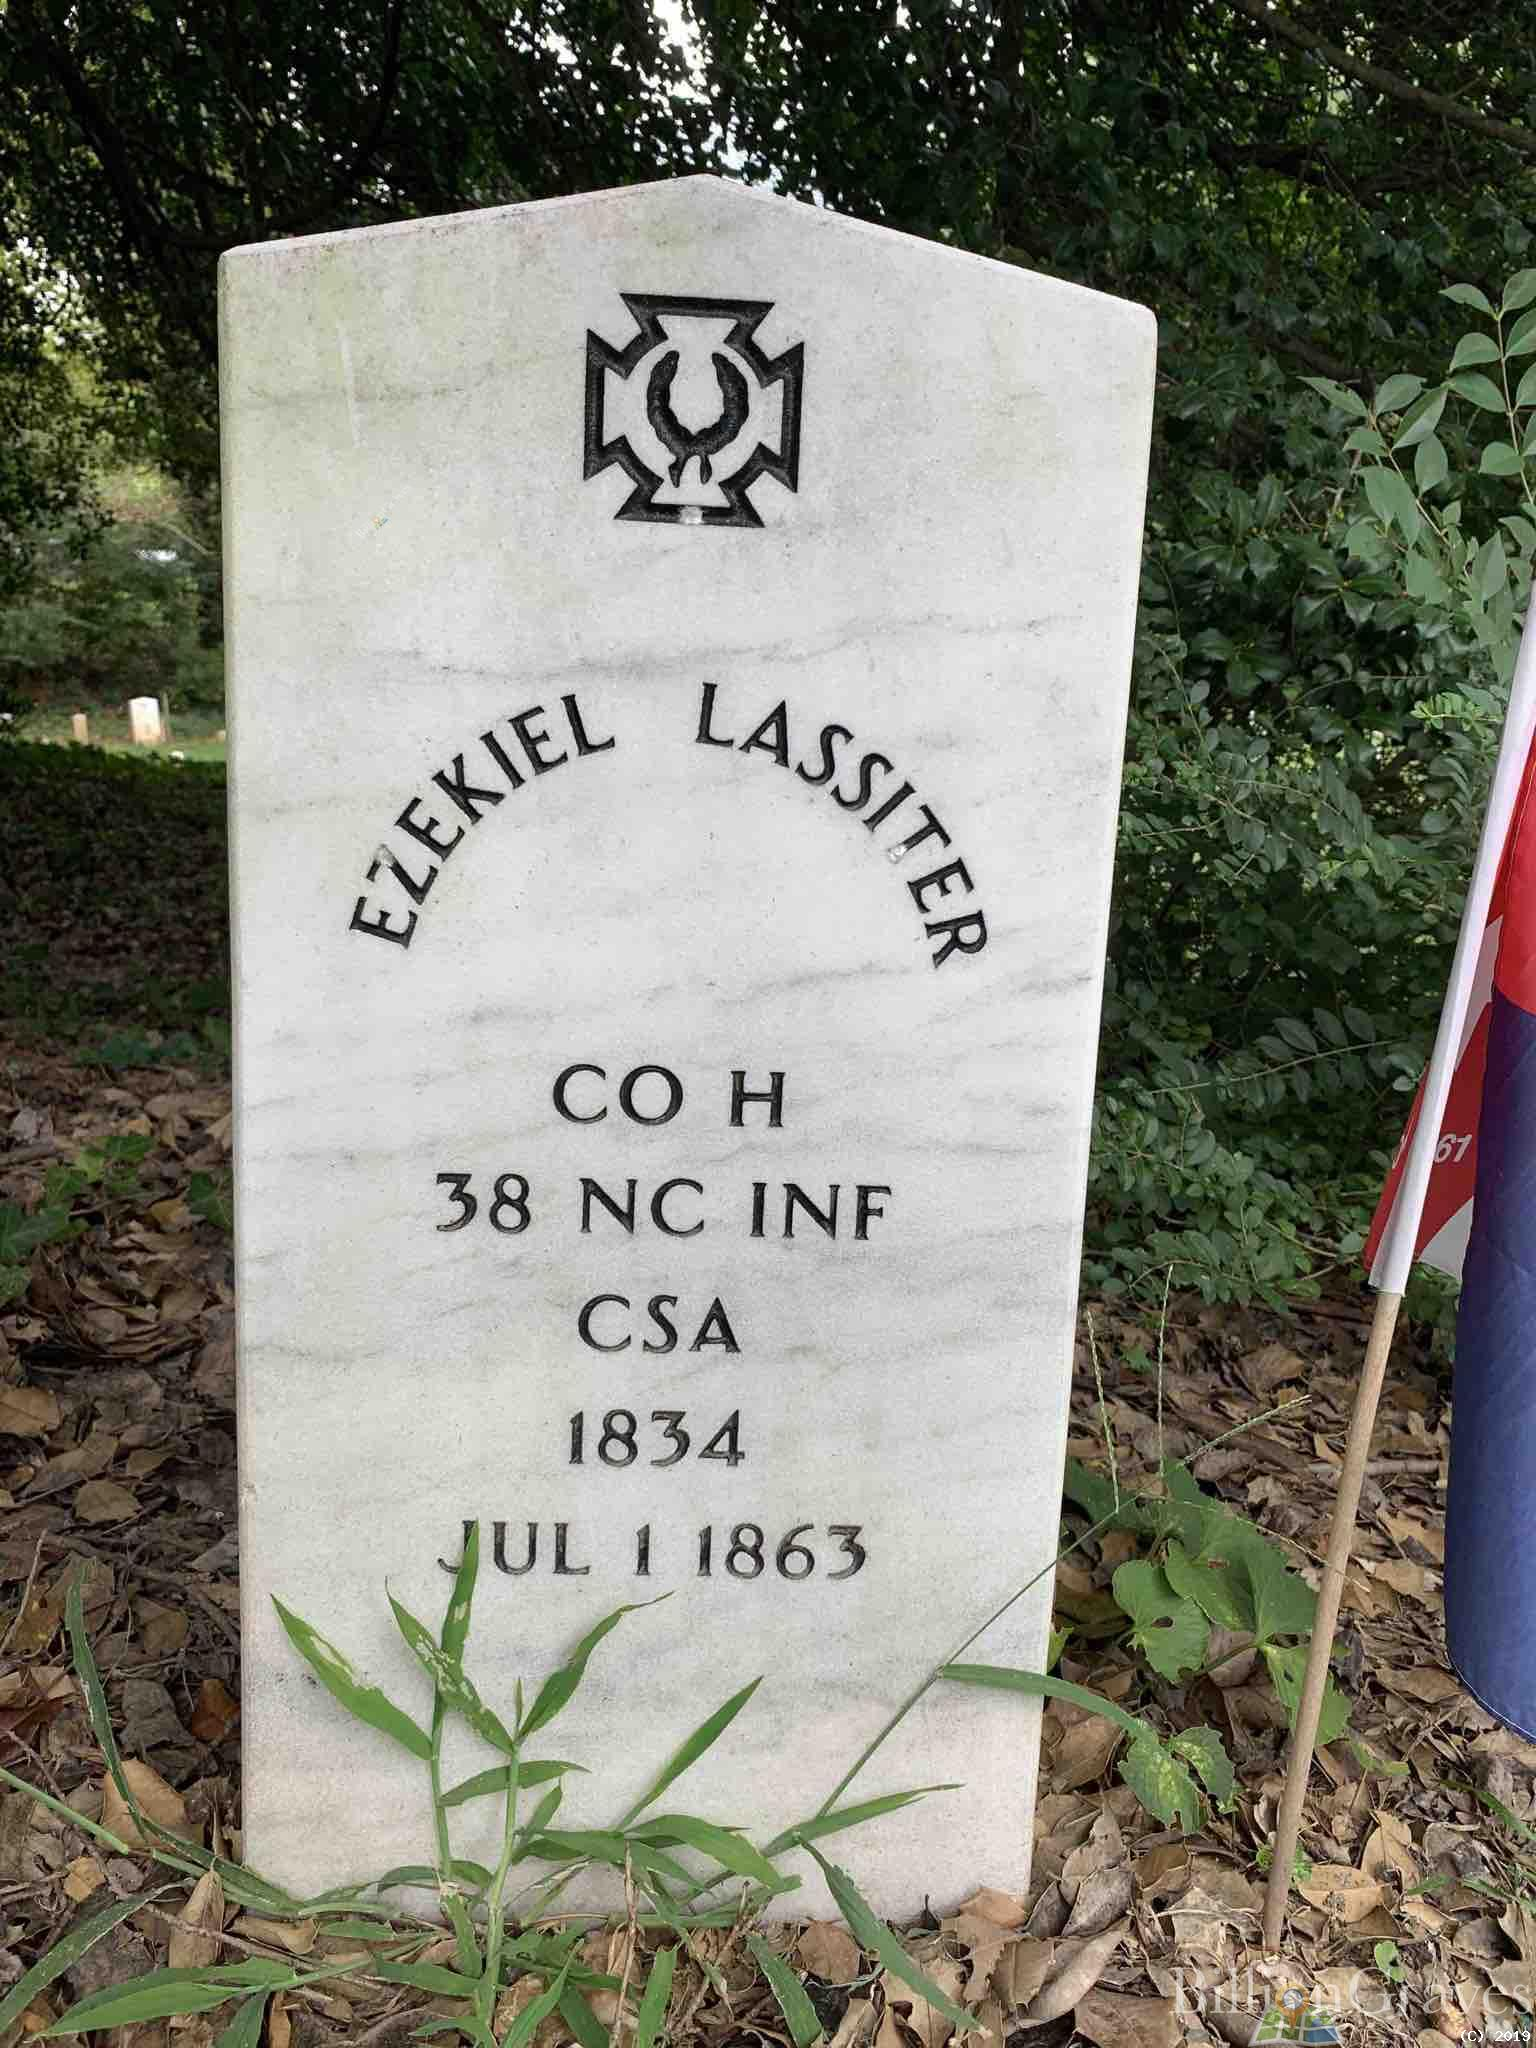military: (207, 182, 1155, 1900)
